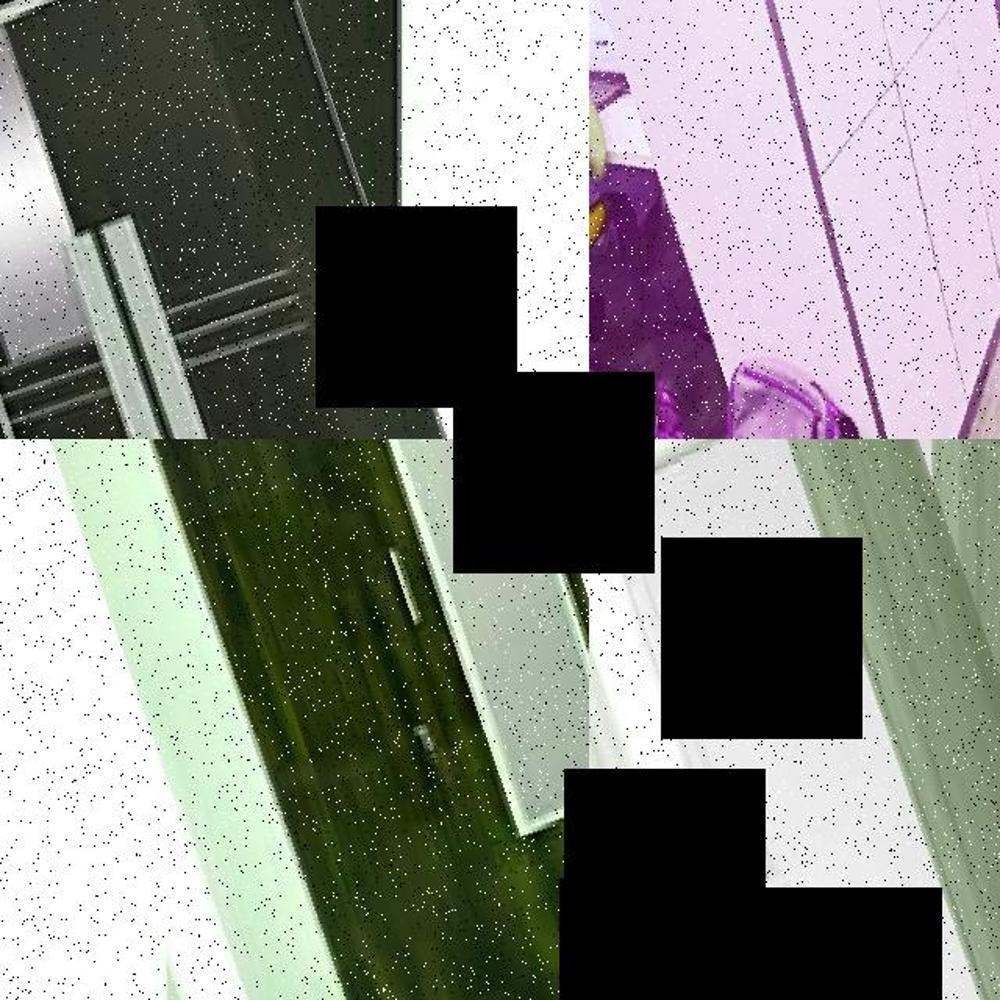cabinet: (31, 439, 589, 1000), (589, 439, 1000, 1000), (0, 0, 464, 439), (589, 0, 1000, 439)
